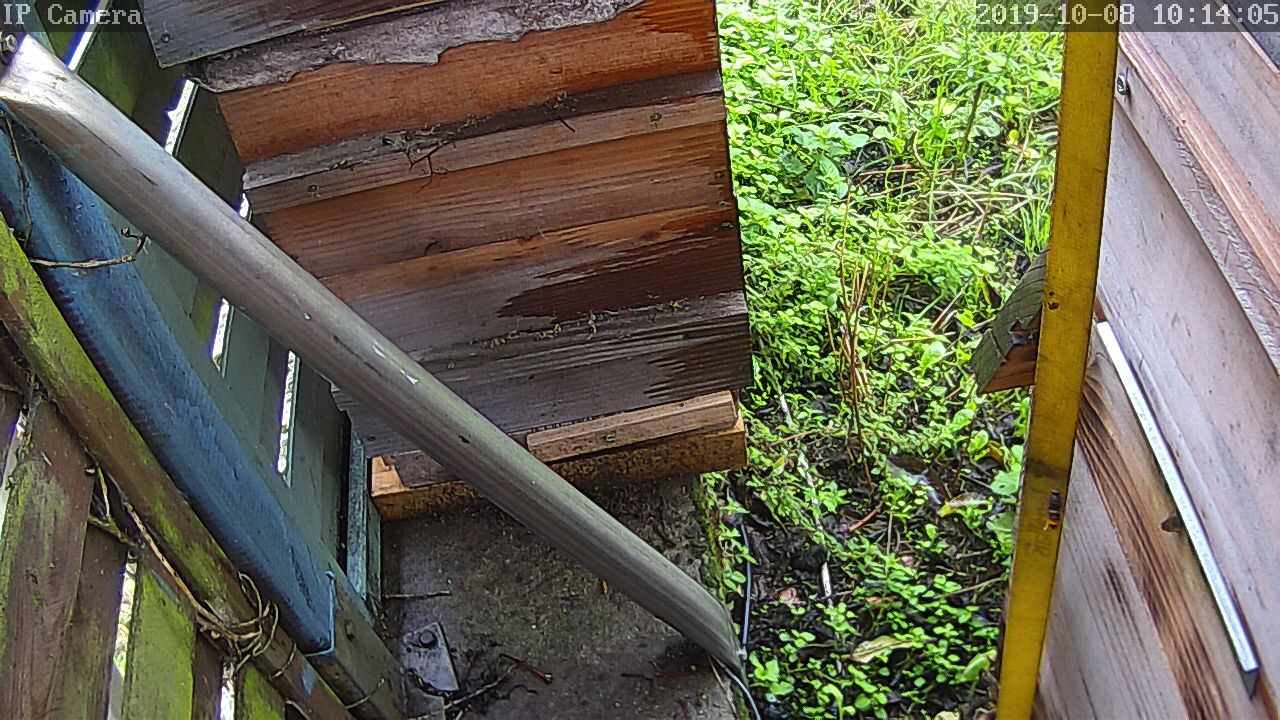bee: (1154, 502, 1191, 541)
hornet: (1041, 486, 1068, 533)
